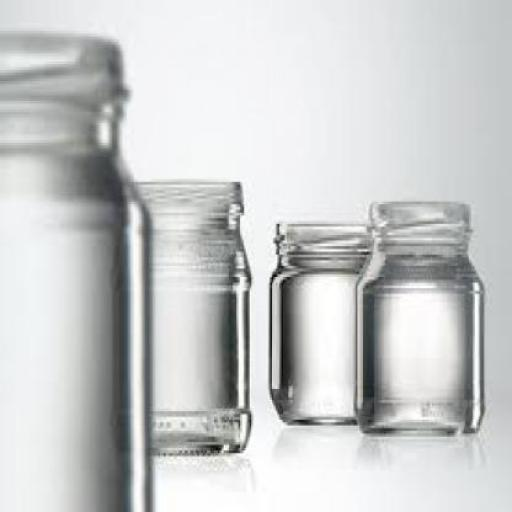glass: (0, 31, 149, 509), (132, 182, 250, 456), (354, 196, 482, 437), (268, 218, 363, 426)
